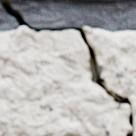brick: (1, 0, 21, 1)
broken_brick: (0, 27, 131, 135), (84, 28, 135, 135)
crack: (0, 0, 133, 135)
